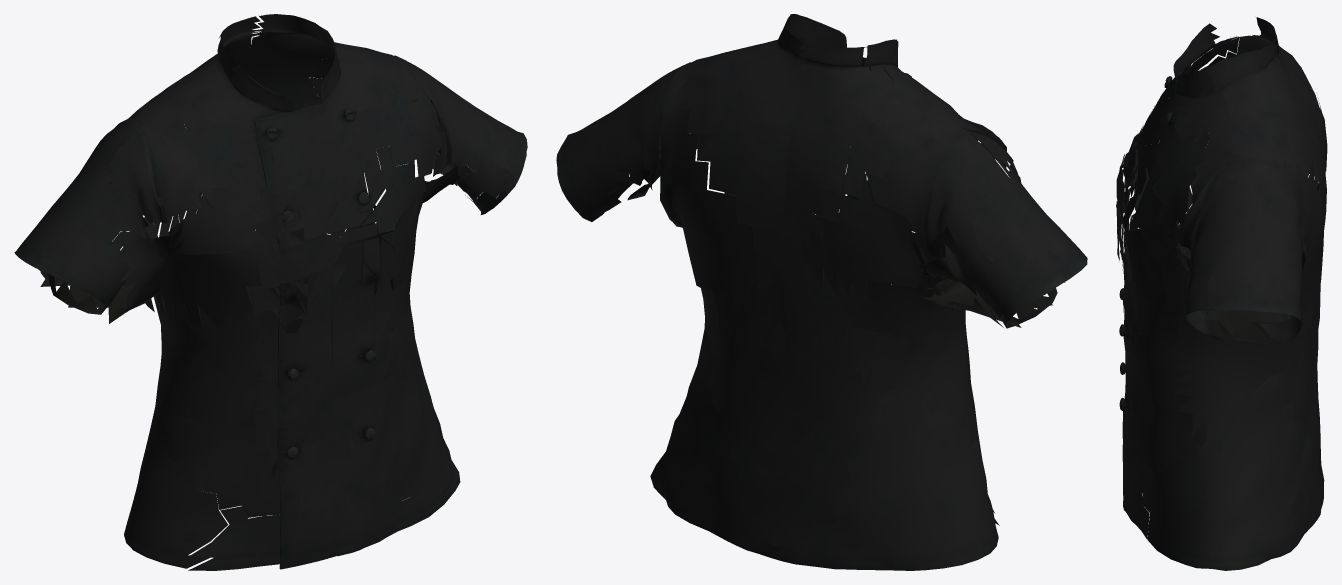
The model's file is dante.mobile.glb.
3 views of the same model, side by side, from view 1: azimuth 30°, elevation 25°; view 2: azimuth 150°, elevation 25°; view 3: azimuth 270°, elevation 25° (orthographic). The views are drawn at different scales.
Visible parts, largest first — view 1: geometry_0; view 2: geometry_0; view 3: geometry_0.
Part boxes in pixels (bbox=[...]): geometry_0: bbox=[14, 14, 527, 570]; geometry_0: bbox=[556, 14, 1087, 570]; geometry_0: bbox=[1116, 17, 1327, 570].
Bounding box in the file's own units: 0.792 × 0.7371 × 0.3055.
1 material, 1 textured.
